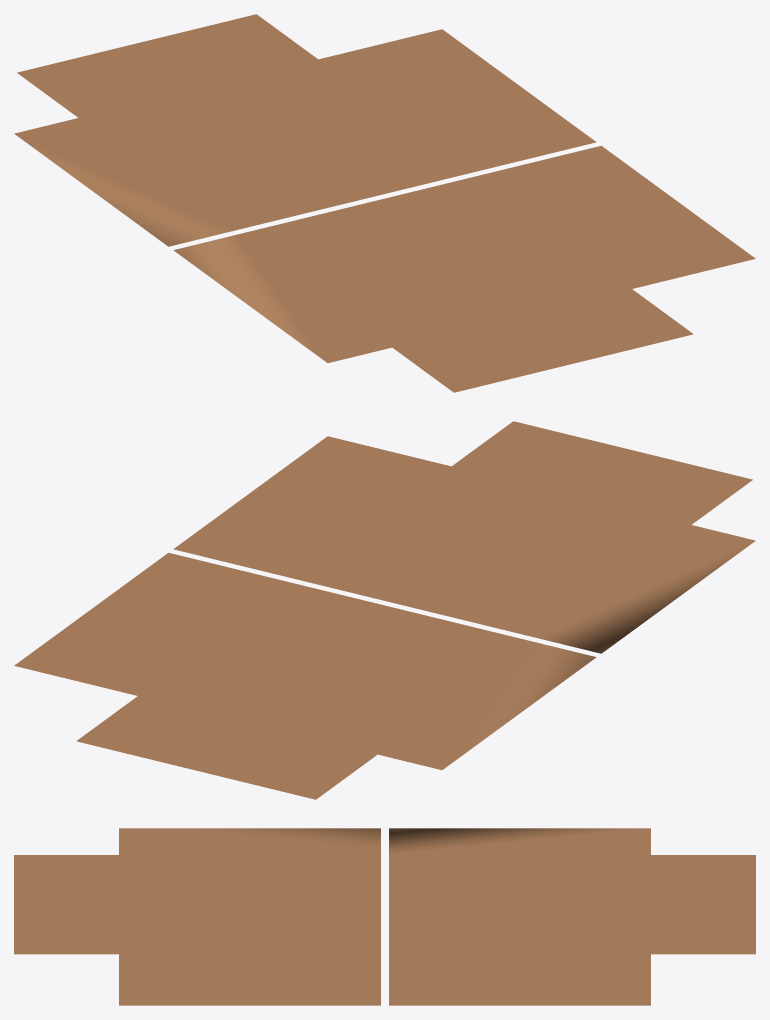
Rendered from SueloTienda.fbx.
The picture shows the model from 3 angles, top to bottom: view 1: azimuth 30°, elevation 25°; view 2: azimuth 150°, elevation 25°; view 3: azimuth 270°, elevation 25°; orthographic projection. The views are drawn at different scales.
Visible parts, largest first — view 1: Suelo; view 2: Suelo; view 3: Suelo.
Boxes of the visible parts, x1,y1,x2,y2 form: Suelo: (14, 14, 755, 392); Suelo: (14, 421, 755, 799); Suelo: (14, 828, 755, 1005).
Bounding box in the file's own units: 800 × 0.000364 × 1415.
